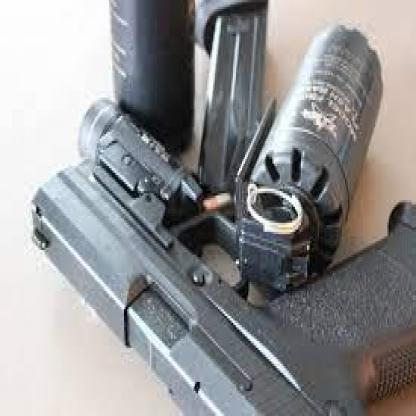Grenade: (231, 27, 383, 289)
Pistol: (29, 96, 413, 412)
